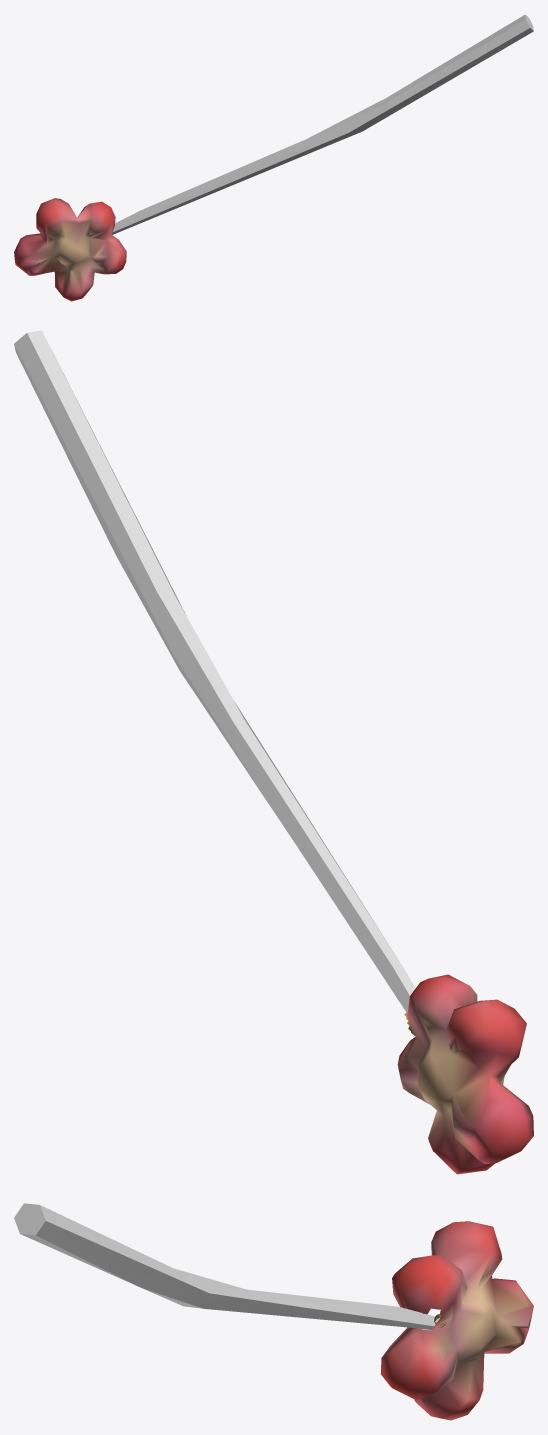
The picture shows the model from 3 angles, top to bottom: view 1: azimuth 30°, elevation 25°; view 2: azimuth 150°, elevation 25°; view 3: azimuth 270°, elevation 25°; orthographic projection. The views are drawn at different scales.
Parts seen in each view (by area): view 1: LOD 5_4441588532611241159_923a94d9283586042bf341a57634d57c; view 2: LOD 5_4441588532611241159_923a94d9283586042bf341a57634d57c; view 3: LOD 5_4441588532611241159_923a94d9283586042bf341a57634d57c.
Boxes of the visible parts, box(x1,y1,x2,y2) form: LOD 5_4441588532611241159_923a94d9283586042bf341a57634d57c: box(14, 14, 533, 301); LOD 5_4441588532611241159_923a94d9283586042bf341a57634d57c: box(14, 330, 533, 1174); LOD 5_4441588532611241159_923a94d9283586042bf341a57634d57c: box(14, 1203, 533, 1420).
Bounding box in the file's own units: 1.5 × 1.01 × 0.9087.
